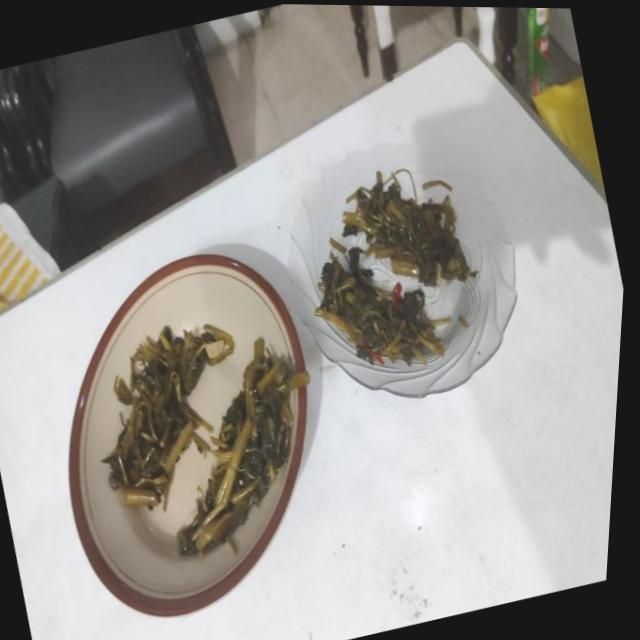tumis_kangkung: (176, 338, 310, 556), (102, 323, 235, 510), (314, 246, 444, 366), (342, 170, 476, 286)
